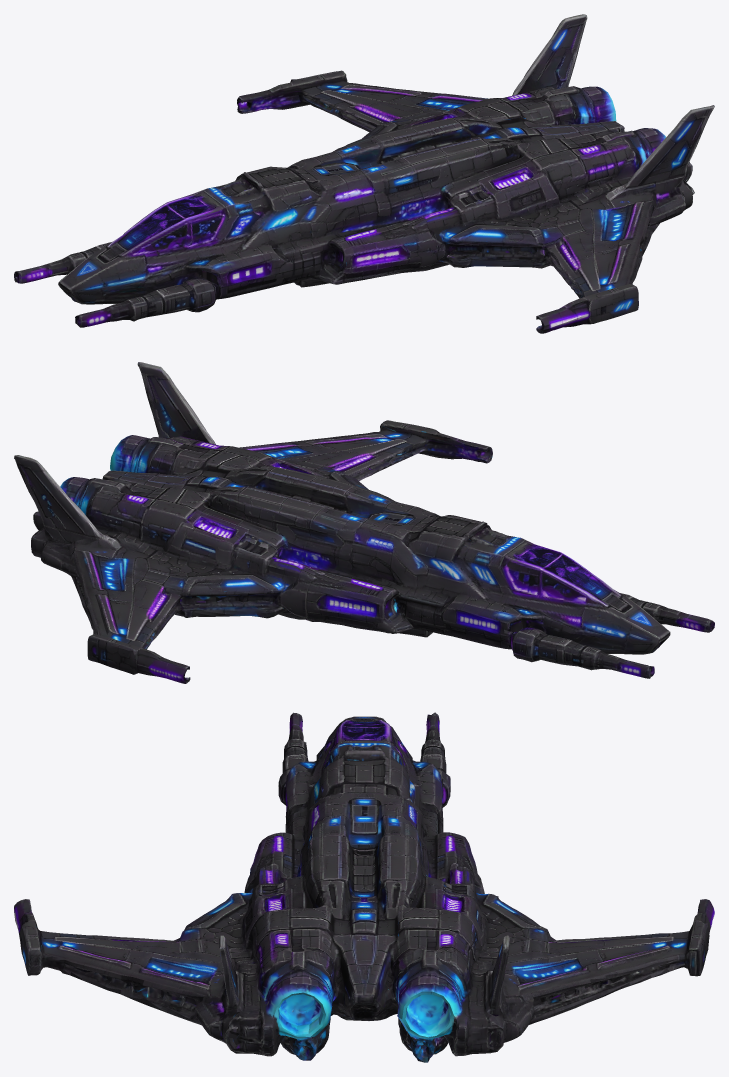
File: vortex.glb
3 views of the same model, one above another, from view 1: azimuth 30°, elevation 25°; view 2: azimuth 150°, elevation 25°; view 3: azimuth 270°, elevation 25° (orthographic). The views are drawn at different scales.
Parts seen in each view (by area): view 1: Mesh0; view 2: Mesh0; view 3: Mesh0.
Part boxes in pixels (x1,y1,x2,y2): Mesh0: (14, 14, 714, 333); Mesh0: (14, 362, 714, 683); Mesh0: (14, 712, 714, 1062).
Bounding box in the file's own units: 1.91 × 0.417 × 1.69.
1 material, 1 textured.
